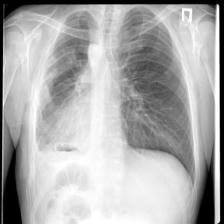tuberculosis: (31, 4, 201, 205)
